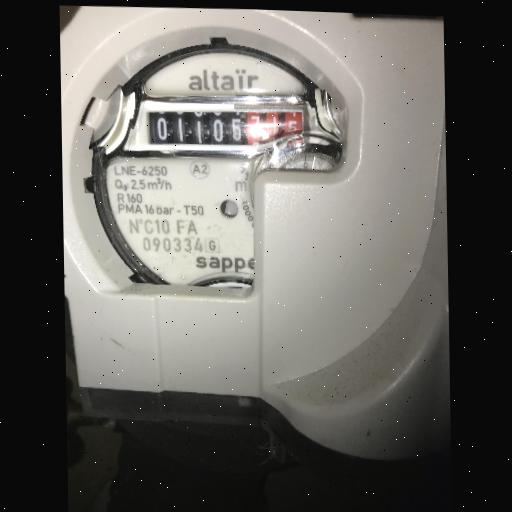0: (154, 111, 172, 146), (209, 111, 226, 146)
1: (190, 111, 209, 146), (172, 111, 190, 146), (264, 111, 280, 144)
5: (227, 112, 245, 146), (284, 111, 301, 138)
7: (247, 112, 262, 145)
border_water_meter_number: (142, 95, 311, 157)
